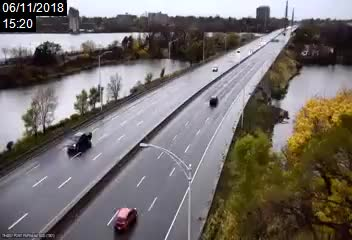personal_car: (112, 206, 138, 234), (65, 131, 92, 153), (207, 94, 219, 107), (210, 64, 219, 73)
